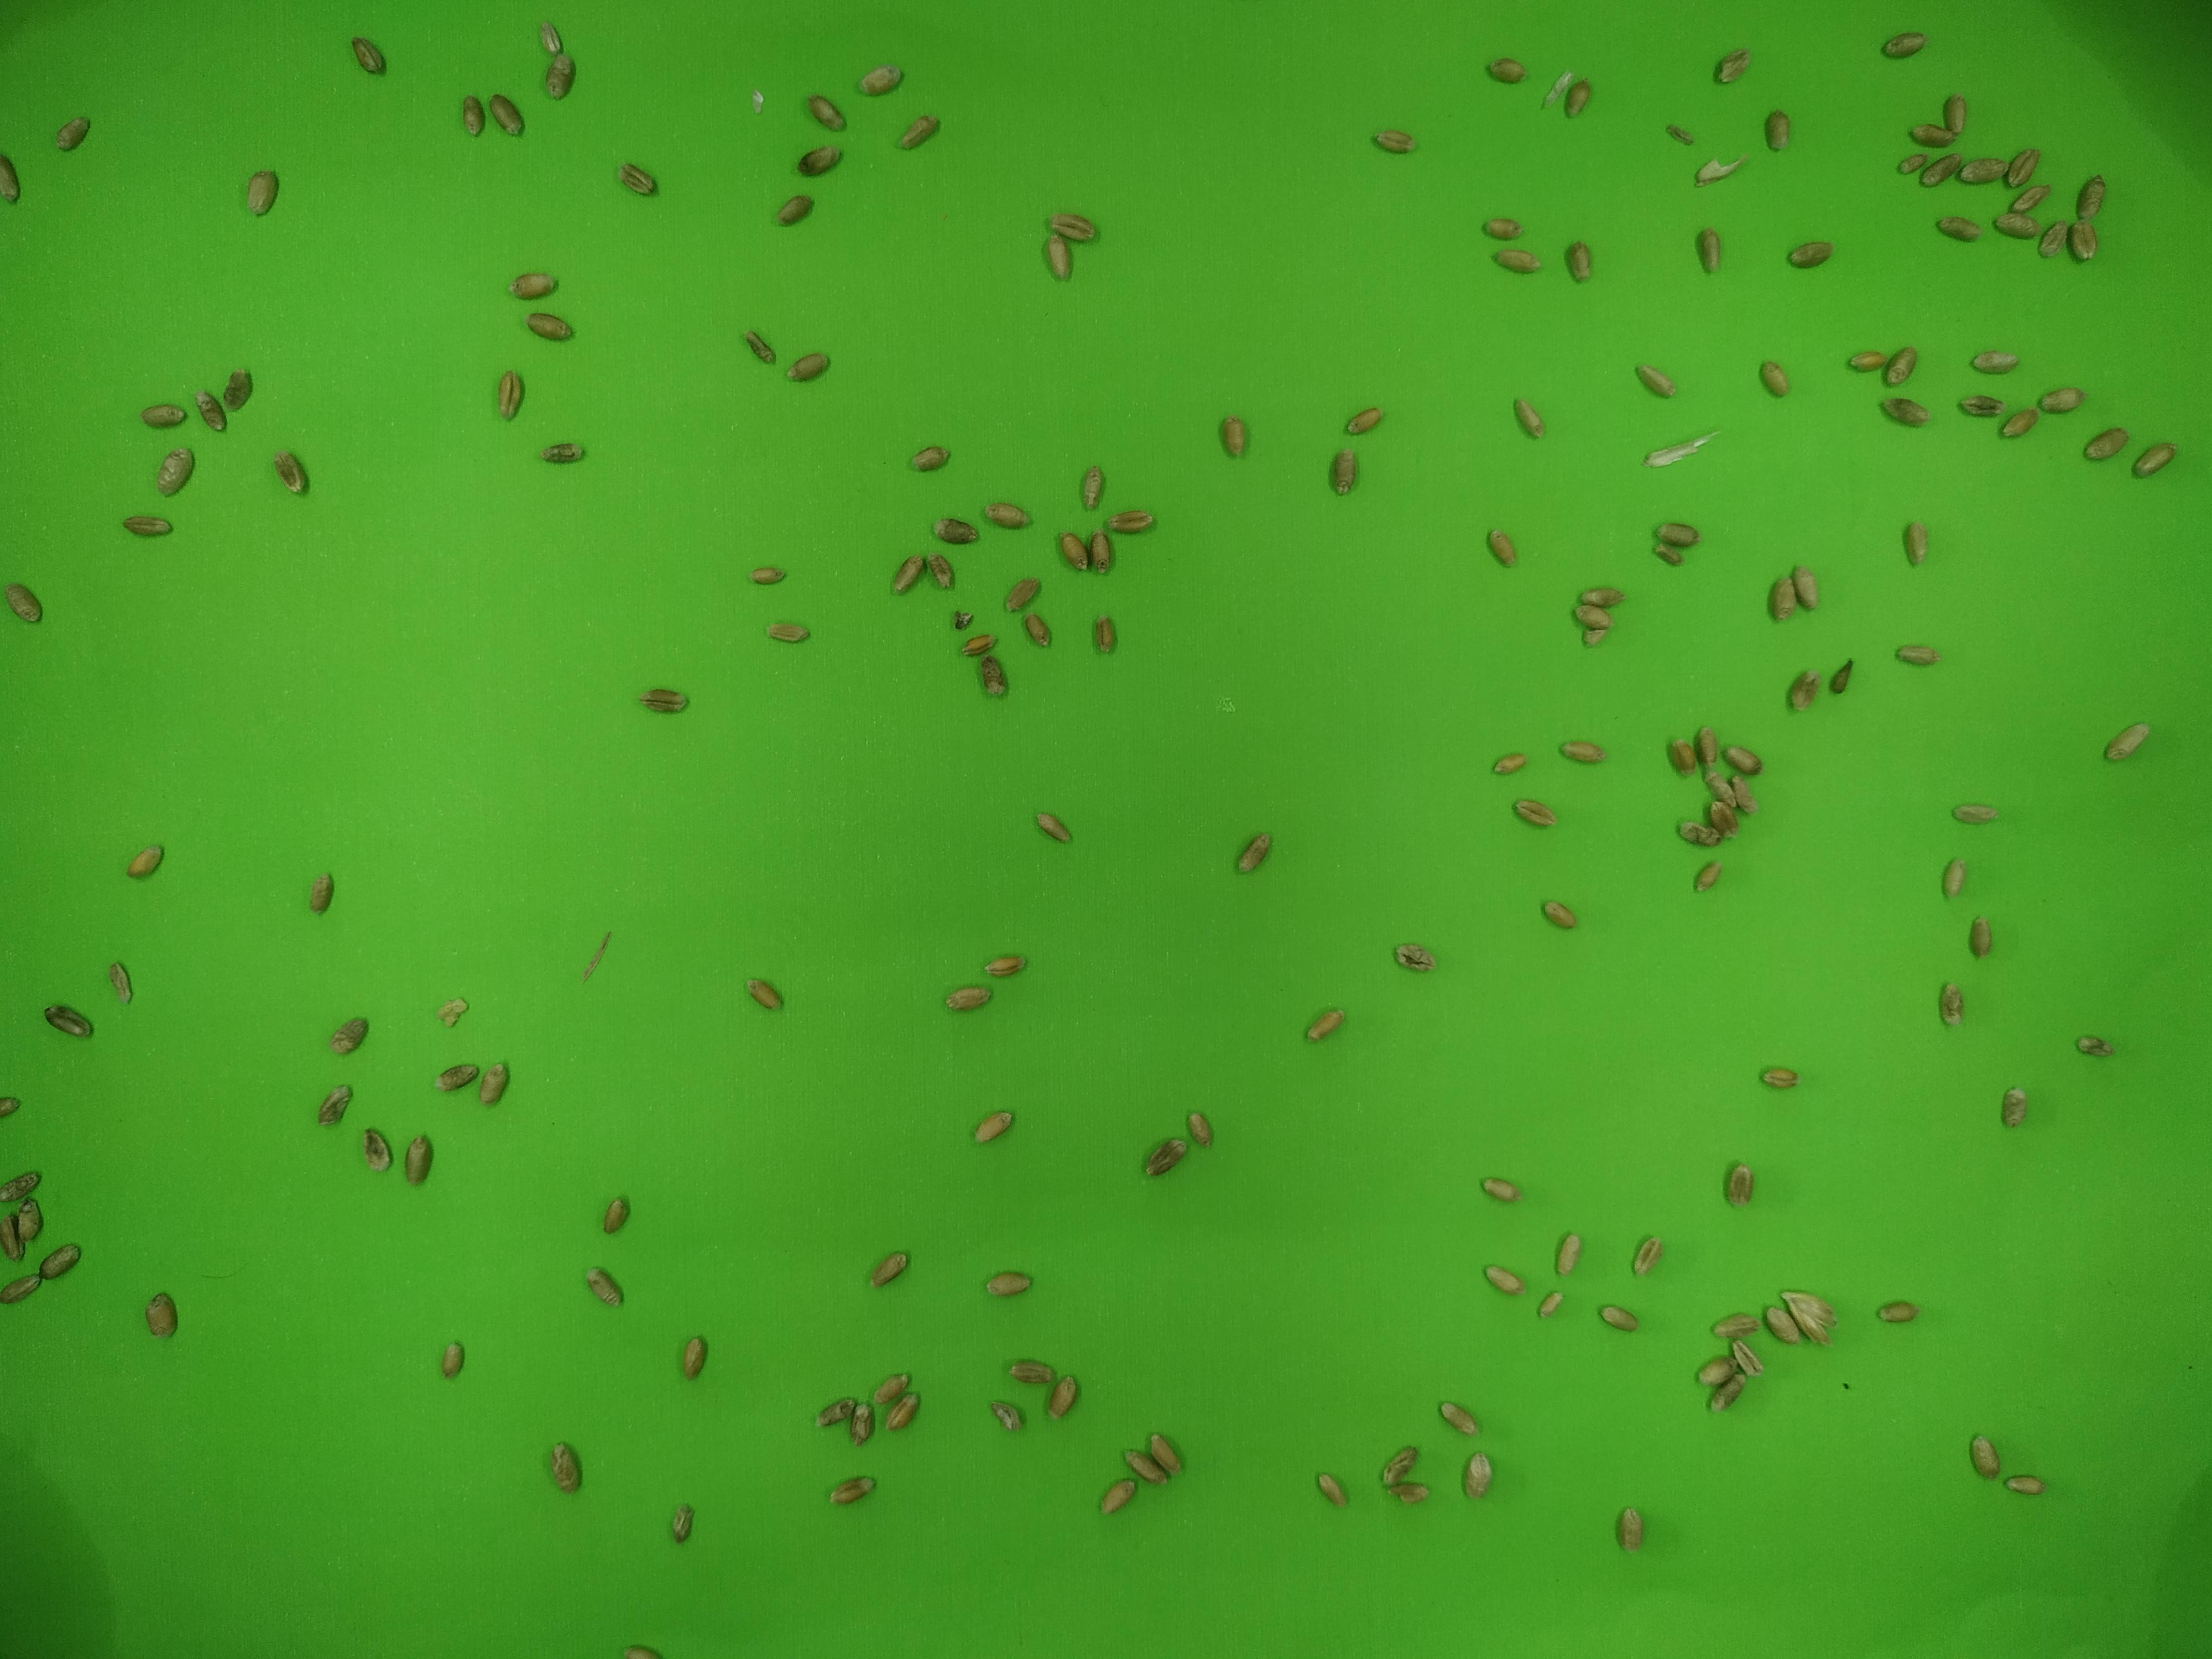bueno: (1121, 1442, 1172, 1485), (545, 1440, 583, 1494), (327, 1013, 372, 1058), (856, 59, 906, 99), (143, 1287, 178, 1344), (2072, 171, 2109, 224), (521, 308, 573, 345), (269, 445, 307, 496), (243, 162, 277, 218), (1045, 1371, 1081, 1423), (1215, 409, 1251, 462), (1507, 795, 1557, 832), (541, 47, 576, 101), (2130, 439, 2180, 476), (1509, 395, 1549, 441), (473, 1059, 511, 1108), (8, 1199, 47, 1246), (1933, 979, 1968, 1031), (1327, 444, 1360, 498), (135, 399, 189, 432), (1955, 154, 2012, 186), (1435, 1396, 1480, 1436), (581, 1266, 624, 1308), (1301, 1005, 1348, 1043), (1001, 1357, 1058, 1387), (1145, 1134, 1186, 1177), (1140, 1431, 1185, 1470), (771, 189, 816, 228), (1040, 231, 1075, 281), (350, 32, 388, 78), (493, 369, 524, 425), (1105, 506, 1157, 539), (1693, 1352, 1745, 1385), (1723, 1159, 1755, 1213), (1460, 1447, 1493, 1500), (1965, 1431, 2001, 1480), (1665, 733, 1702, 780), (1880, 346, 1921, 387), (1096, 1475, 1137, 1517), (676, 1331, 708, 1383), (982, 1266, 1035, 1299), (2080, 426, 2128, 462), (1482, 53, 1530, 88), (403, 1131, 433, 1187), (1991, 206, 2041, 239), (1790, 561, 1822, 613), (1715, 779, 1764, 814), (943, 979, 994, 1013), (880, 1392, 923, 1432), (1557, 735, 1608, 768), (507, 268, 557, 301), (3, 581, 41, 624), (1893, 639, 1943, 672), (1997, 1082, 2030, 1134), (2002, 144, 2039, 189), (864, 1251, 911, 1286), (1234, 834, 1276, 873), (1483, 524, 1519, 570), (1785, 670, 1822, 714), (2066, 217, 2101, 264), (1479, 1262, 1526, 1296), (488, 91, 524, 136), (968, 1109, 1014, 1145), (2035, 383, 2084, 416), (432, 1060, 482, 1092), (1786, 236, 1833, 270), (1538, 895, 1579, 933), (1764, 1303, 1802, 1345), (1045, 210, 1096, 242), (1713, 45, 1751, 87), (845, 1396, 875, 1449), (743, 974, 785, 1012), (1005, 570, 1042, 613), (636, 684, 688, 714), (122, 510, 174, 541), (2105, 721, 2149, 757), (890, 551, 926, 595), (1760, 108, 1793, 156), (1562, 238, 1594, 289), (55, 108, 88, 155), (1031, 806, 1073, 844), (42, 1003, 87, 1038), (1083, 525, 1115, 574), (160, 446, 193, 493), (907, 442, 954, 476), (1595, 1300, 1638, 1337), (1967, 345, 2021, 374), (896, 114, 940, 150), (1721, 742, 1765, 778), (1767, 575, 1799, 624), (921, 550, 961, 589), (1552, 1231, 1584, 1280), (1903, 119, 1960, 147), (1937, 853, 1969, 902), (1344, 402, 1387, 438), (1880, 27, 1926, 60), (306, 868, 336, 919), (1712, 1310, 1760, 1342), (1492, 246, 1540, 278), (456, 93, 489, 139), (1694, 224, 1724, 275), (1614, 1505, 1646, 1553), (1635, 361, 1674, 400), (1310, 1470, 1349, 1509), (933, 513, 978, 547), (1088, 610, 1120, 656), (1076, 460, 1104, 513), (0, 152, 25, 211), (868, 1370, 914, 1403), (315, 1084, 349, 1128), (797, 144, 841, 178), (1692, 724, 1726, 769), (980, 498, 1029, 529), (1561, 74, 1594, 119), (789, 350, 834, 383), (615, 163, 657, 198), (1478, 1174, 1525, 1206), (1630, 1234, 1663, 1279), (1759, 355, 1790, 402), (126, 843, 163, 882), (0, 1214, 27, 1267), (1934, 214, 1983, 244), (1882, 397, 1931, 427), (828, 1476, 876, 1506), (1942, 92, 1973, 138), (1479, 213, 1525, 245), (2038, 217, 2070, 262), (806, 95, 847, 130), (1056, 528, 1089, 571), (812, 1397, 860, 1427), (1917, 154, 1963, 185), (600, 1193, 632, 1237), (1966, 914, 1995, 963), (1184, 1105, 1214, 1151), (1575, 582, 1627, 609), (433, 1338, 469, 1377), (1700, 796, 1740, 832), (1900, 520, 1931, 565), (1952, 800, 2000, 829), (2069, 1032, 2116, 1061), (1655, 520, 1702, 549), (1705, 1375, 1745, 1410), (1383, 1479, 1434, 1505), (1373, 124, 1412, 159), (1020, 608, 1053, 649), (38, 1245, 78, 1279), (1874, 1296, 1919, 1326), (1690, 857, 1724, 896), (1761, 1063, 1801, 1095), (962, 627, 997, 664), (1999, 408, 2041, 439), (1382, 1447, 1421, 1480), (667, 1500, 696, 1546), (762, 619, 810, 646), (2001, 1472, 2048, 1500), (1699, 763, 1735, 800), (1532, 1284, 1567, 1321), (1575, 598, 1614, 630), (984, 952, 1030, 979), (746, 561, 789, 589), (1652, 536, 1687, 570), (2008, 184, 2052, 210), (535, 18, 563, 58), (1958, 392, 2001, 418), (0, 1277, 44, 1302), (1848, 346, 1890, 372), (1491, 750, 1532, 776), (1893, 152, 1931, 175)
danado: (218, 367, 257, 413), (974, 651, 1008, 700), (1392, 940, 1441, 973), (192, 388, 228, 431), (359, 1127, 390, 1176), (1678, 816, 1724, 848), (539, 439, 585, 469), (0, 1172, 41, 1203), (747, 327, 776, 365)
impureza: (1637, 427, 1725, 471), (1778, 1288, 1839, 1347), (1691, 155, 1749, 188), (583, 928, 617, 984), (984, 1396, 1027, 1436), (103, 959, 134, 1005), (1726, 1339, 1764, 1375), (1542, 67, 1575, 108), (433, 994, 470, 1027), (1827, 655, 1858, 695), (1666, 122, 1698, 148), (951, 608, 977, 630)
partido: (1579, 630, 1608, 649)
